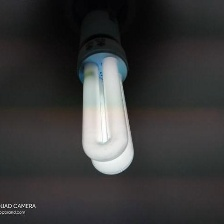light_bulb: (72, 44, 143, 182)
